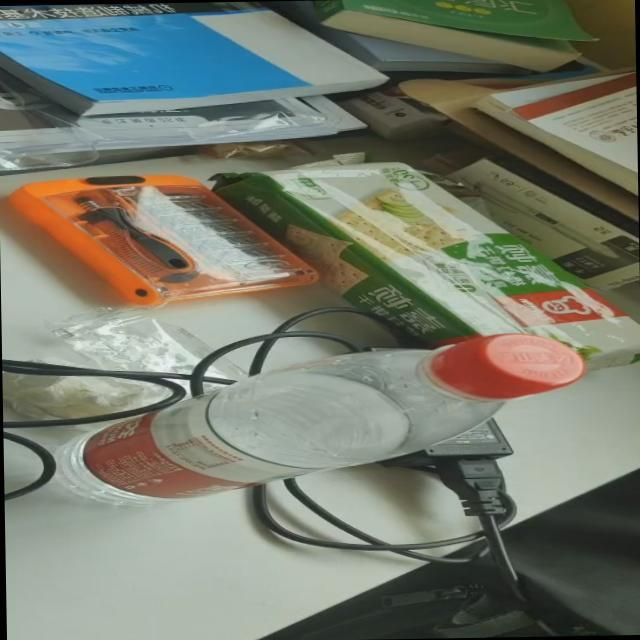good: (51, 334, 586, 506)
